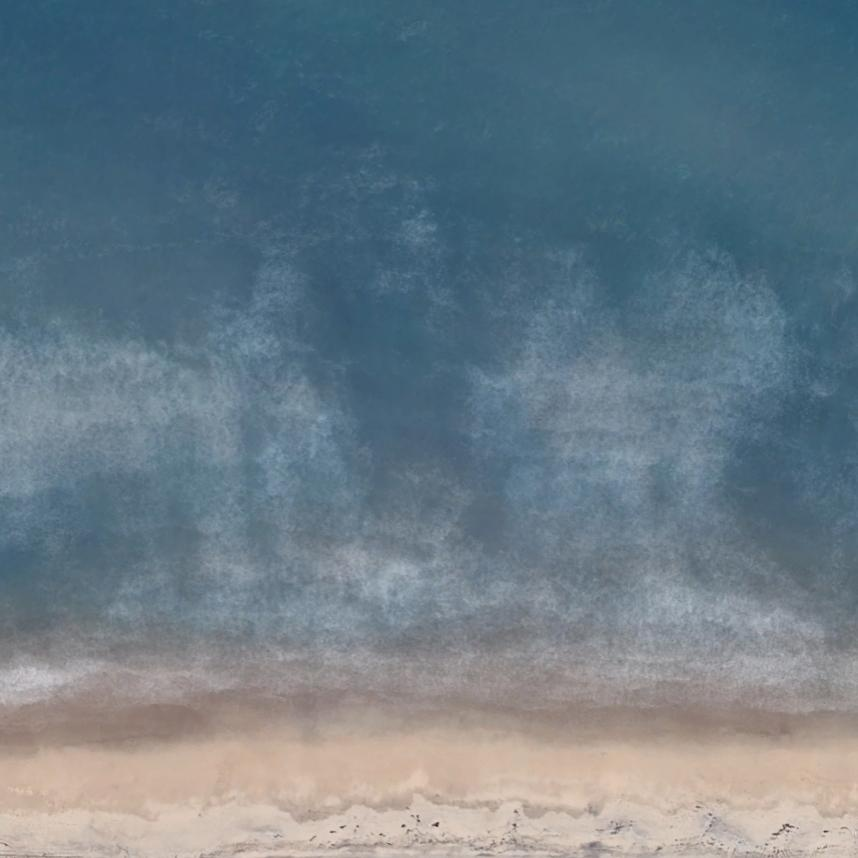rip_current: (269, 207, 559, 656)
